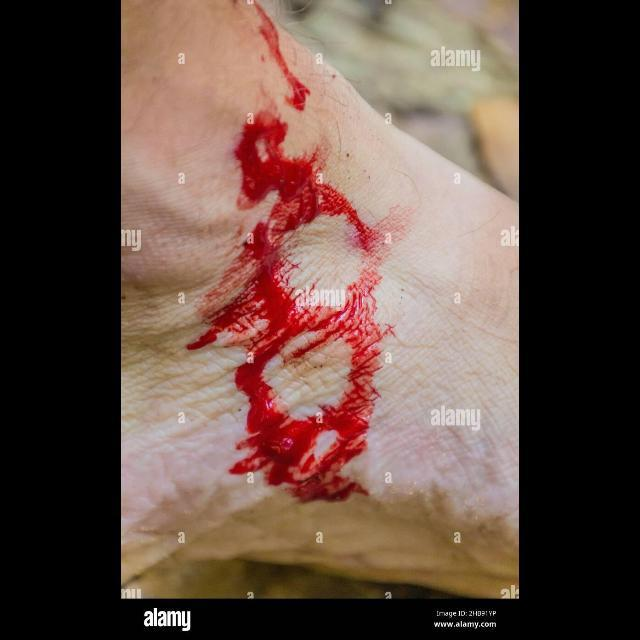blood: (187, 108, 407, 502), (255, 2, 310, 110)
